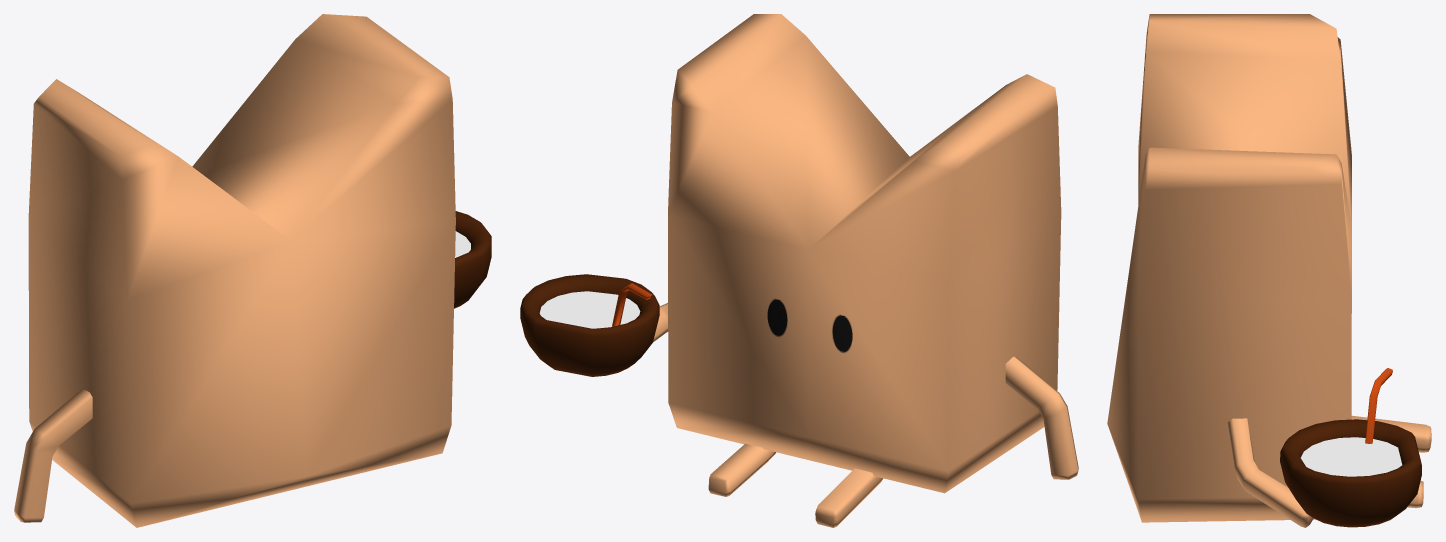
The model's file is EnemyNatureWoodTinyCoccoLow.fbx.
The picture shows the model from 3 angles, left to right: view 1: azimuth 30°, elevation 25°; view 2: azimuth 150°, elevation 25°; view 3: azimuth 270°, elevation 25°; orthographic projection. The views are drawn at different scales.
Visible parts, largest first — view 1: polySurface5; view 2: polySurface5; view 3: polySurface5.
Part boxes in pixels (x1,y1,x2,y2): polySurface5: [14, 14, 491, 527]; polySurface5: [520, 14, 1078, 527]; polySurface5: [1107, 14, 1431, 527].
Bounding box in the file's own units: 0.911 × 0.6651 × 0.4994.
